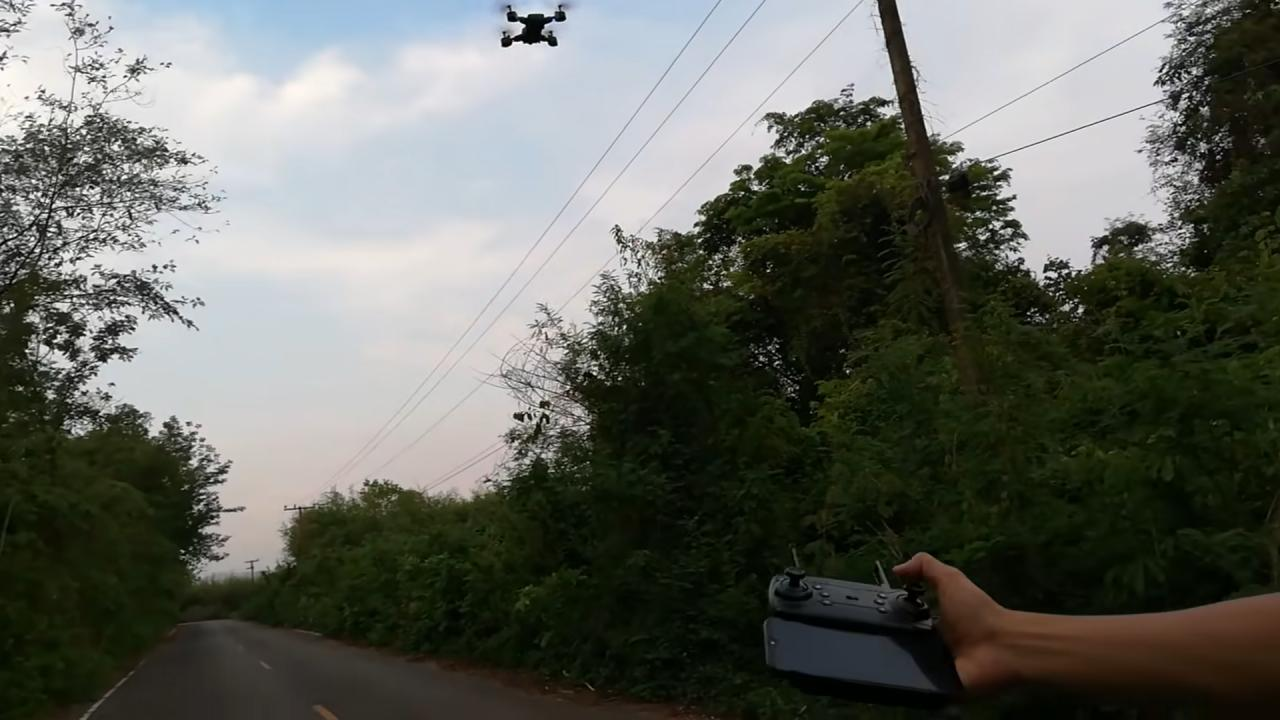Drone: (479, 0, 590, 61)
